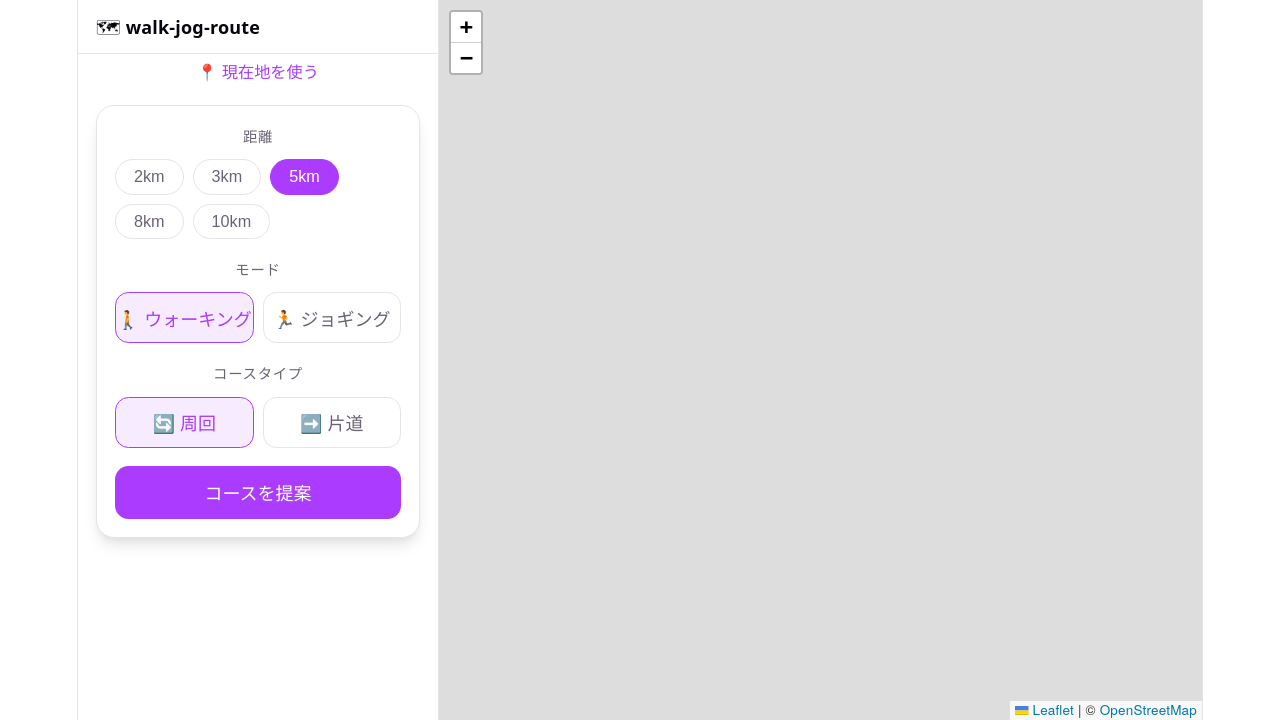
Test: Home › disables submit button while loading
Click the button "コースを提案": (258, 492) [115,466,401,519]
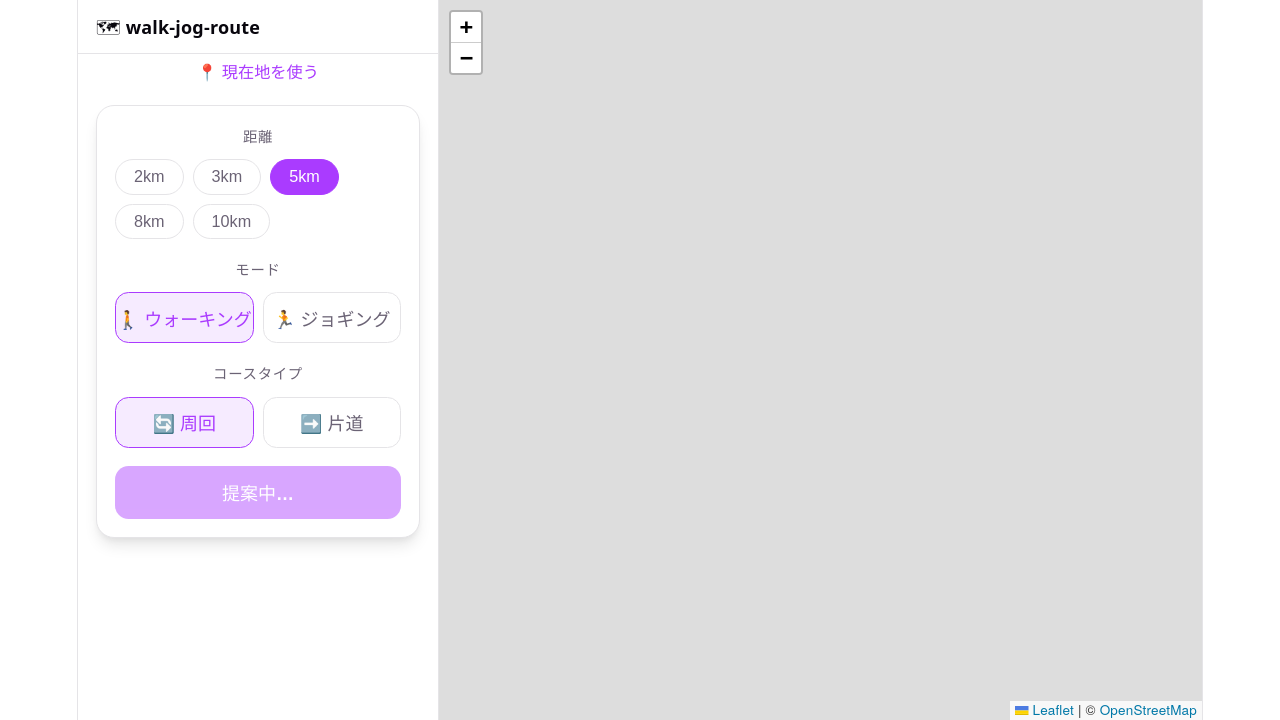
Result: the button "提案中…" is disabled at [115,466,401,519]
